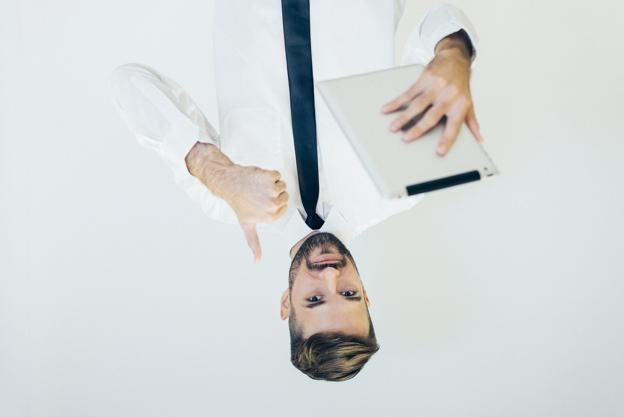thumbsdown: (247, 169, 289, 263)
